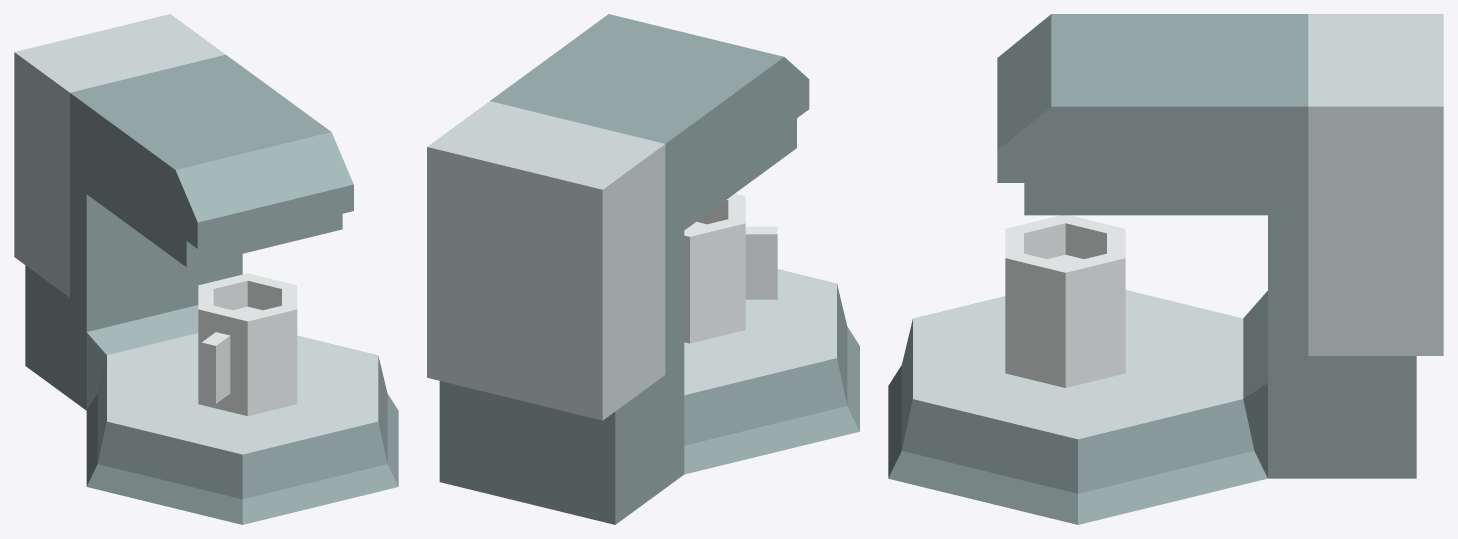
File: coffee_machine.fbx
The picture shows the model from 3 angles, left to right: view 1: azimuth 30°, elevation 25°; view 2: azimuth 150°, elevation 25°; view 3: azimuth 270°, elevation 25°; orthographic projection. The views are drawn at different scales.
Parts seen in each view (by area): view 1: coffee_machine; view 2: coffee_machine; view 3: coffee_machine.
Part boxes in pixels (left/top/right/bottom): coffee_machine: left=14, top=14, right=398, bottom=524; coffee_machine: left=427, top=14, right=859, bottom=524; coffee_machine: left=888, top=14, right=1443, bottom=524.
Bounding box in the file's own units: 0.4272 × 0.4 × 0.5413.
